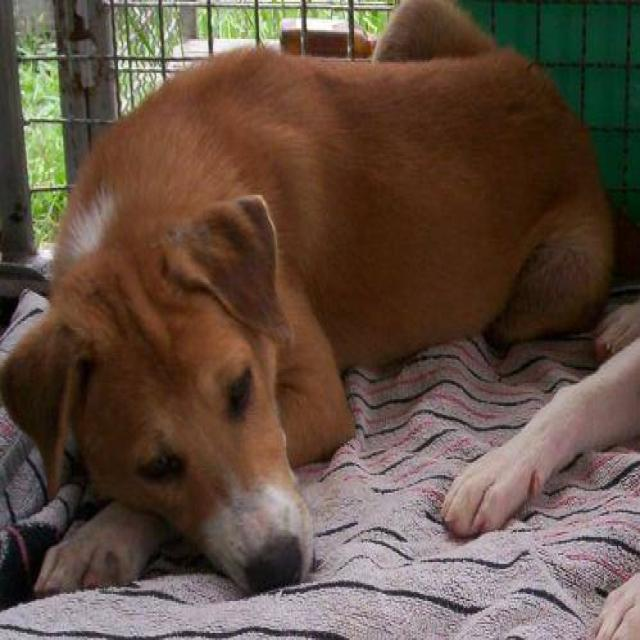dog: (0, 0, 639, 601)
